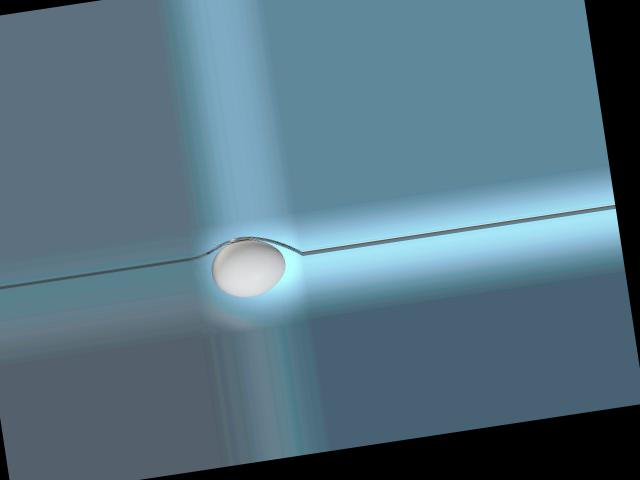egg: (207, 234, 288, 300)
